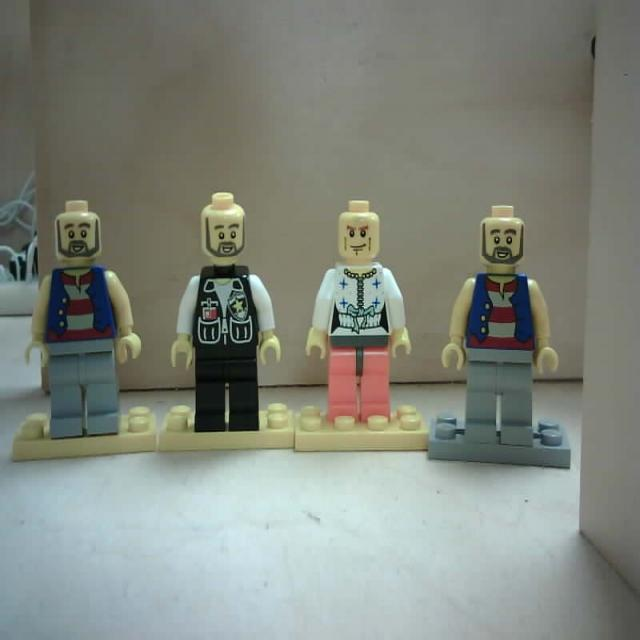Lego-People: (424, 201, 574, 483), (13, 191, 158, 467), (290, 195, 432, 466), (159, 189, 298, 458)
